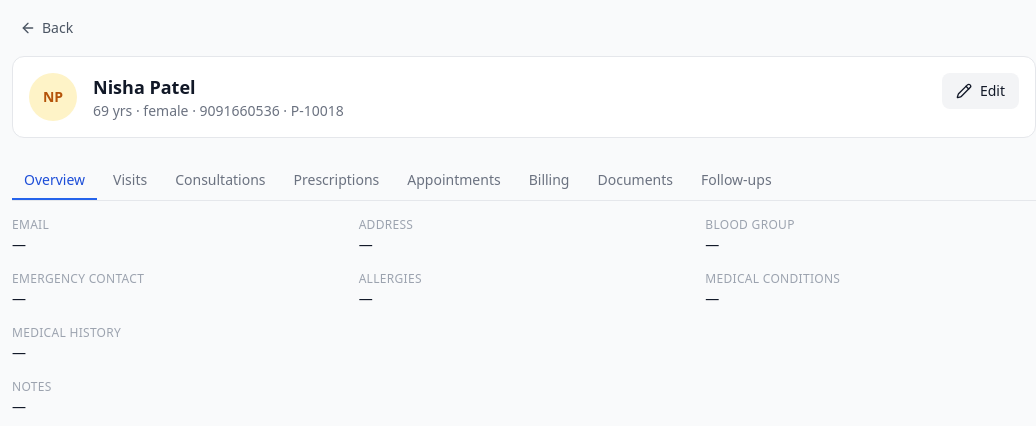
Scenario: Patient profile - Visits tab › shows each visit with its consultation, prescription and bill
The image size is (1036, 426).
Step 1. Click the tab "Visits" → (130, 181), box [101,162,159,200]
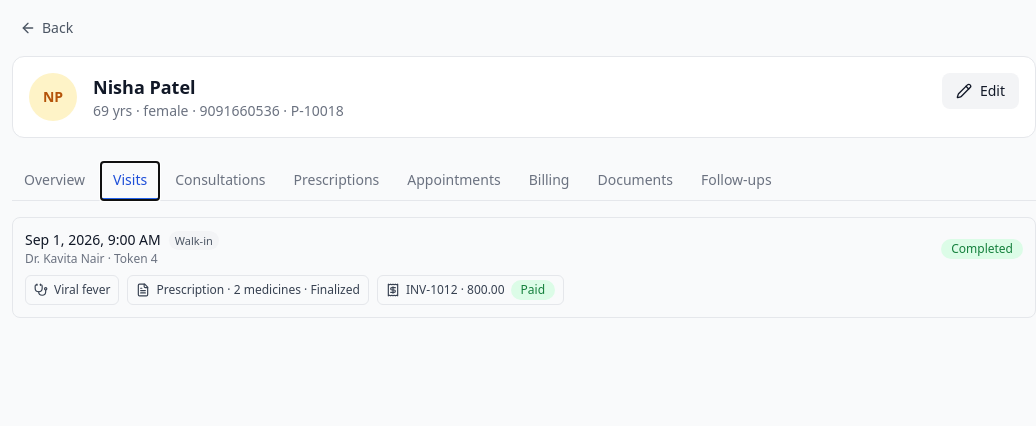
Result: the text "Walk-in" is shown at [169,231,219,250]
Result: the text "Dr. Kavita Nair · Token 4" is shown at [25,250,158,267]
